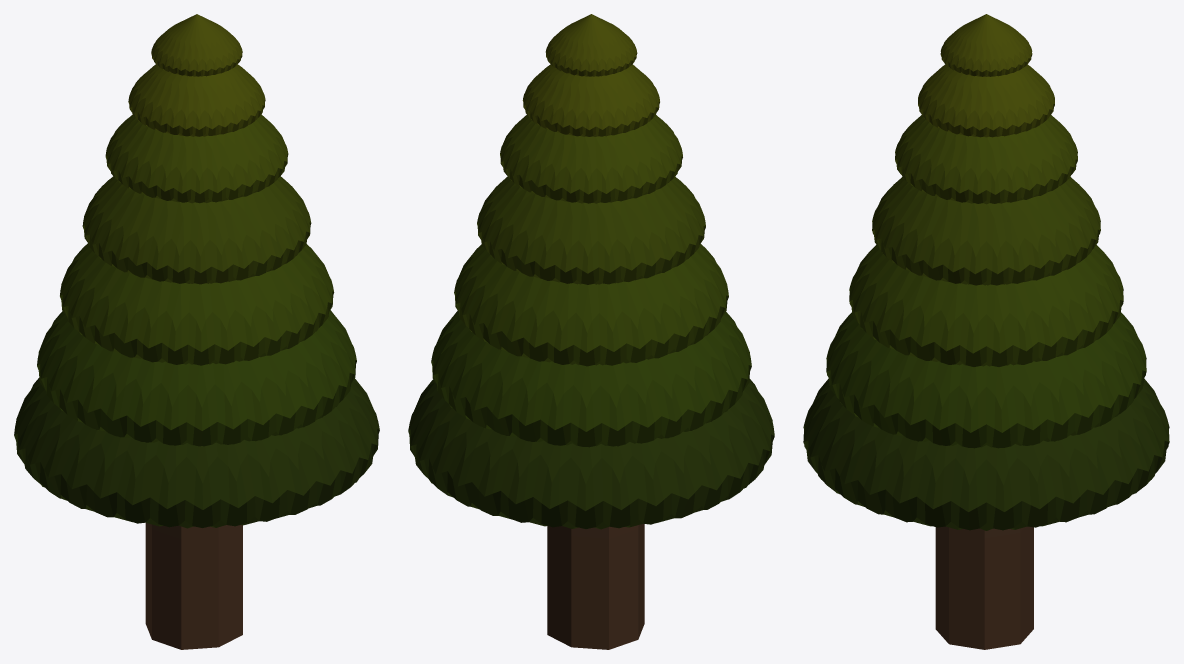
The model's file is tree_obstacle.fbx.
The picture shows the model from 3 angles, left to right: view 1: azimuth 30°, elevation 25°; view 2: azimuth 150°, elevation 25°; view 3: azimuth 270°, elevation 25°; orthographic projection.
Visible parts, largest first — view 1: Cone, Cone.001, Cone.003, Cone.004, Cone.005, Cube, Cone.006, Cone.002; view 2: Cone, Cone.001, Cone.003, Cone.004, Cone.005, Cube, Cone.006, Cone.002; view 3: Cone, Cone.001, Cone.003, Cone.004, Cone.005, Cube, Cone.006, Cone.002.
Boxes of the visible parts, x1,y1,x2,y2 form: Cone: (14, 378, 379, 528); Cone.001: (37, 310, 356, 446); Cone.003: (60, 243, 334, 365); Cone.004: (82, 176, 311, 284); Cone.005: (105, 114, 288, 203); Cube: (145, 523, 242, 649); Cone.006: (128, 64, 265, 136); Cone.002: (151, 14, 242, 76); Cone: (408, 378, 774, 529); Cone.001: (431, 310, 751, 447); Cone.003: (454, 243, 728, 366); Cone.004: (477, 176, 705, 284); Cone.005: (500, 115, 682, 203); Cube: (547, 523, 644, 649); Cone.006: (522, 64, 659, 136); Cone.002: (545, 14, 637, 76); Cone: (803, 378, 1169, 530); Cone.001: (826, 312, 1146, 448); Cone.003: (849, 245, 1123, 366); Cone.004: (872, 177, 1100, 285); Cone.005: (895, 115, 1077, 204); Cube: (935, 526, 1033, 649); Cone.006: (918, 64, 1054, 137); Cone.002: (940, 14, 1032, 76).
Bounding box in the file's own units: 597 × 1109 × 597.
